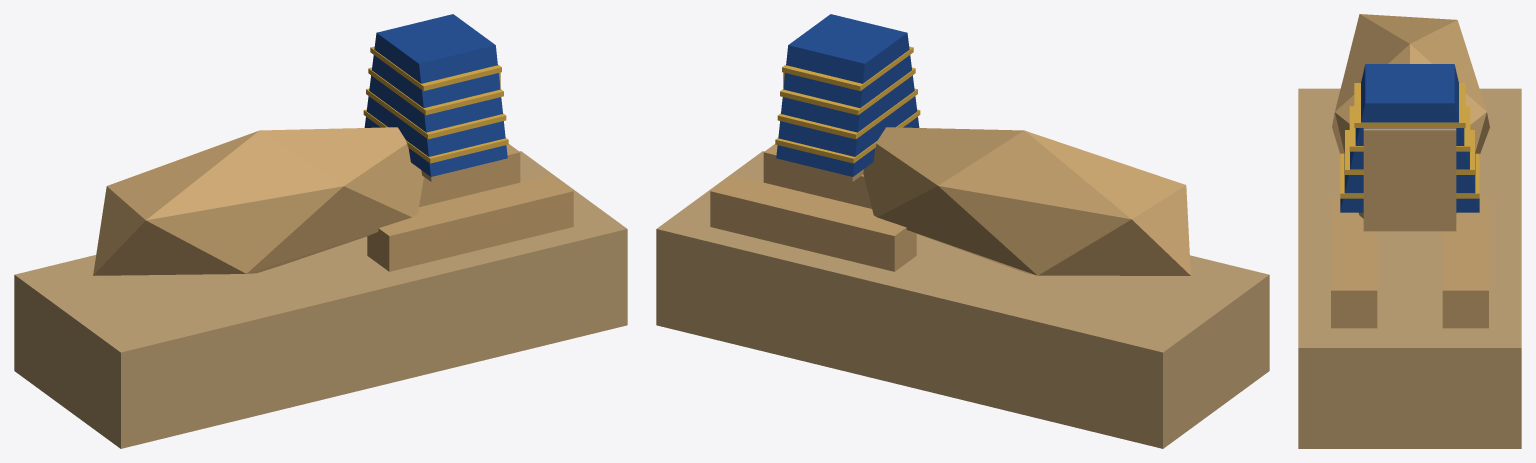
The model's file is sfinx_liten.glb.
3 renders of one model, left to right at view 1: azimuth 30°, elevation 25°; view 2: azimuth 150°, elevation 25°; view 3: azimuth 270°, elevation 25°, orthographic. The views are drawn at different scales.
Visible parts, largest first — view 1: sfinx_liten; view 2: sfinx_liten; view 3: sfinx_liten.
Part boxes in pixels (box(x1,y1,x2,y2)): sfinx_liten: box(14, 14, 627, 448); sfinx_liten: box(656, 14, 1269, 448); sfinx_liten: box(1298, 14, 1521, 448).
Bounding box in the file's own units: 6.6 × 3.5 × 2.4.
